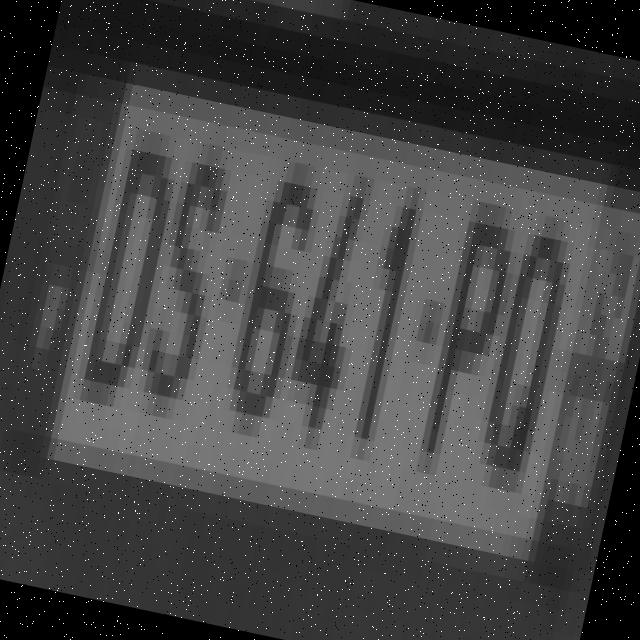EU: (0, 64, 640, 595)
France: (0, 75, 124, 481)
